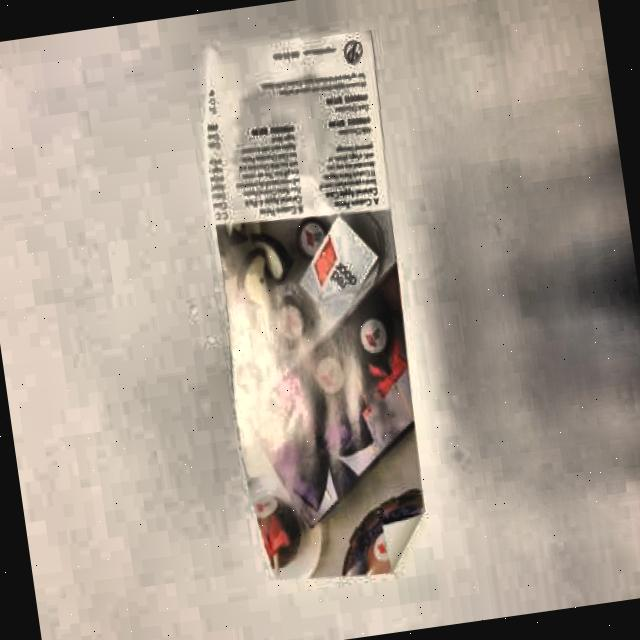paper: (185, 27, 446, 603)
